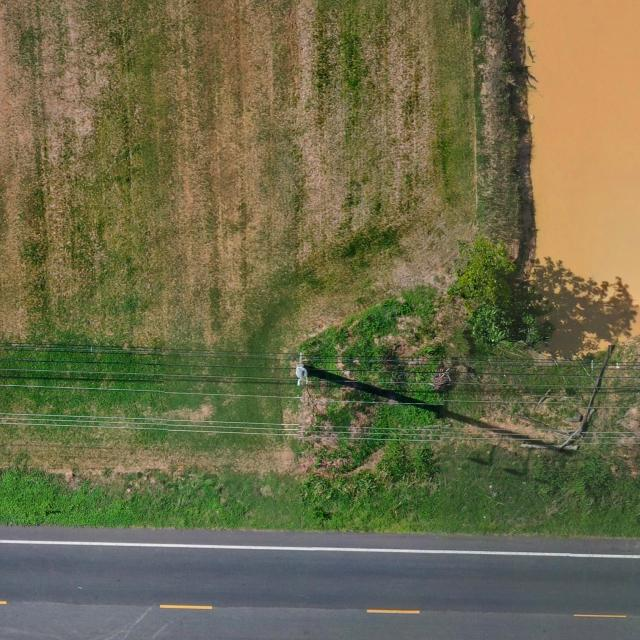Tree: (442, 236, 557, 345)
